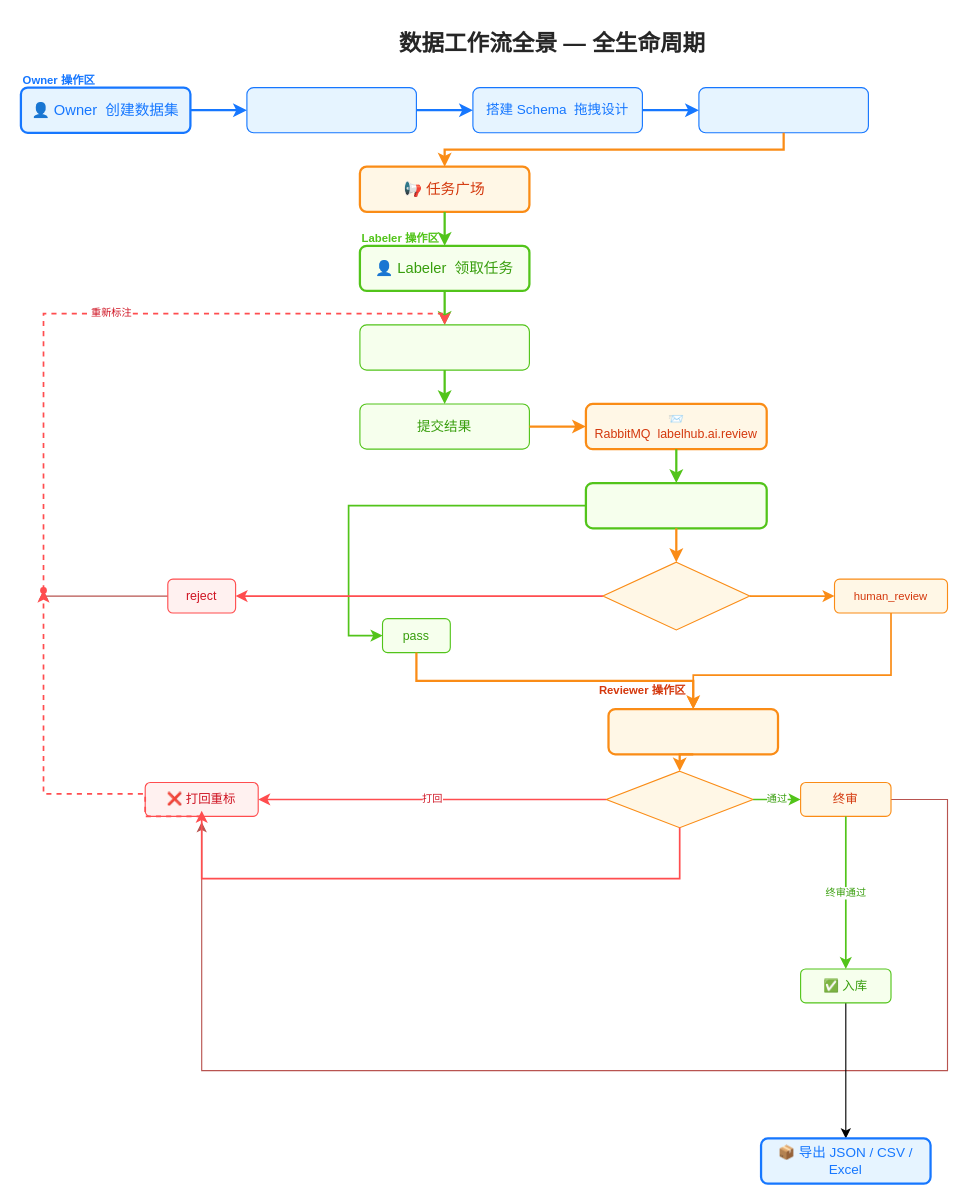
Some shapes in this 976 by 1203 pixel diagram are drawn without their labels. Here are the shapes that lost their labels. From the top down, the box of each, then its label:
(246, 86, 416, 133): 导入题目 JSON/CSV/Excel
(698, 86, 868, 133): 创建+发布任务
(359, 324, 529, 370): 标注作答 草稿自动保存
(584, 481, 767, 529): 🤖 AI 自动审核
(602, 561, 750, 630): AI 判定
(607, 707, 779, 755): 👤 Reviewer 人工复审
(605, 770, 753, 828): 复审判定
